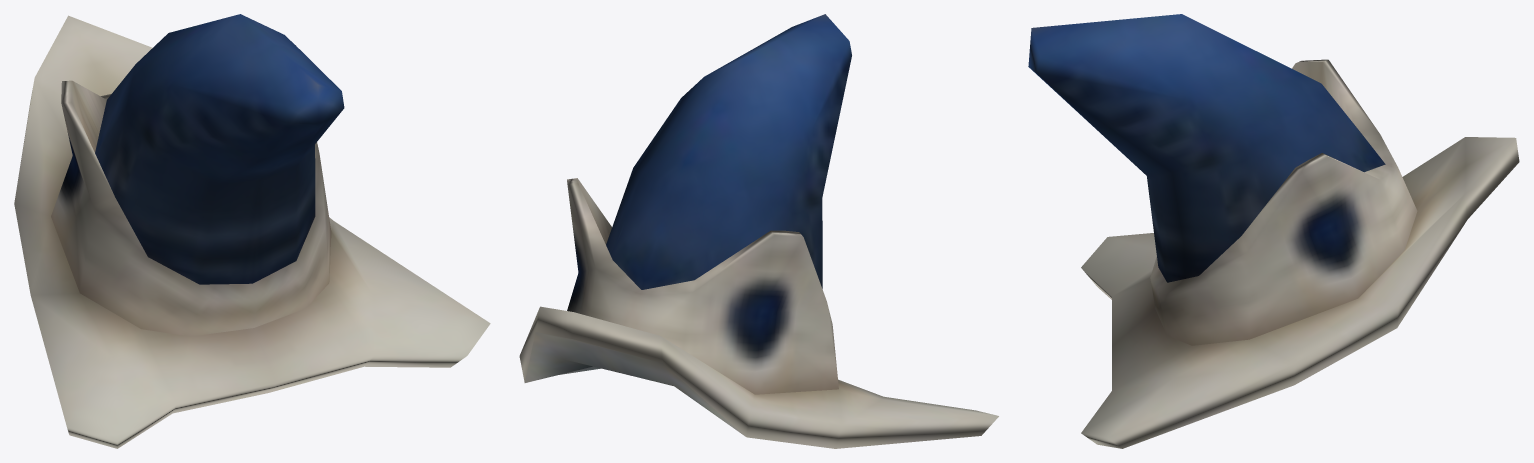
Rendered from standardHat.glb.
The picture shows the model from 3 angles, left to right: view 1: azimuth 30°, elevation 25°; view 2: azimuth 150°, elevation 25°; view 3: azimuth 270°, elevation 25°; orthographic projection. The views are drawn at different scales.
Visible parts, largest first — view 1: standardHat; view 2: standardHat; view 3: standardHat.
Boxes of the visible parts, x1,y1,x2,y2 form: standardHat: (14, 14, 490, 448); standardHat: (519, 14, 998, 448); standardHat: (1028, 14, 1519, 448).
Size of the model in its own units: 0.6656 by 0.5438 by 0.6879.
1 material, 1 textured.
